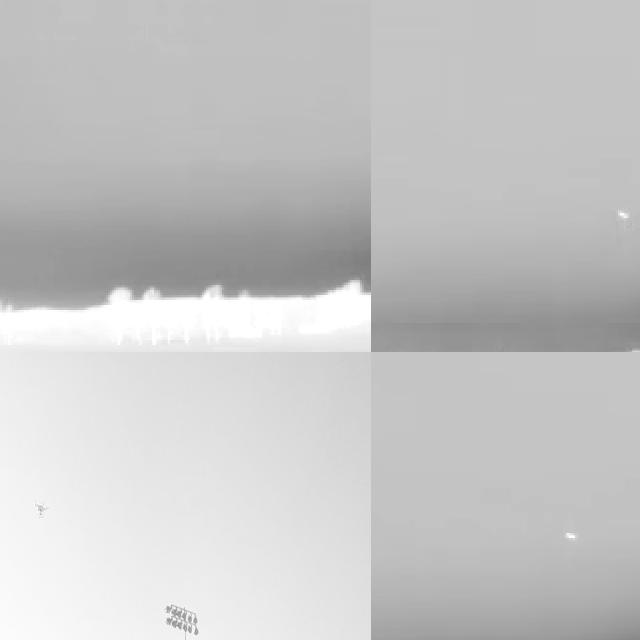1: (548, 518, 594, 566), (605, 199, 640, 239)
drone: (28, 494, 50, 523)
